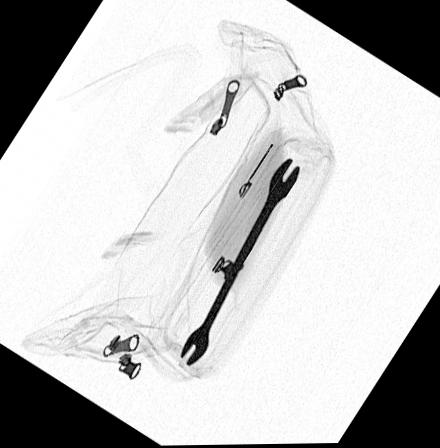Wrench: (179, 156, 298, 366)
